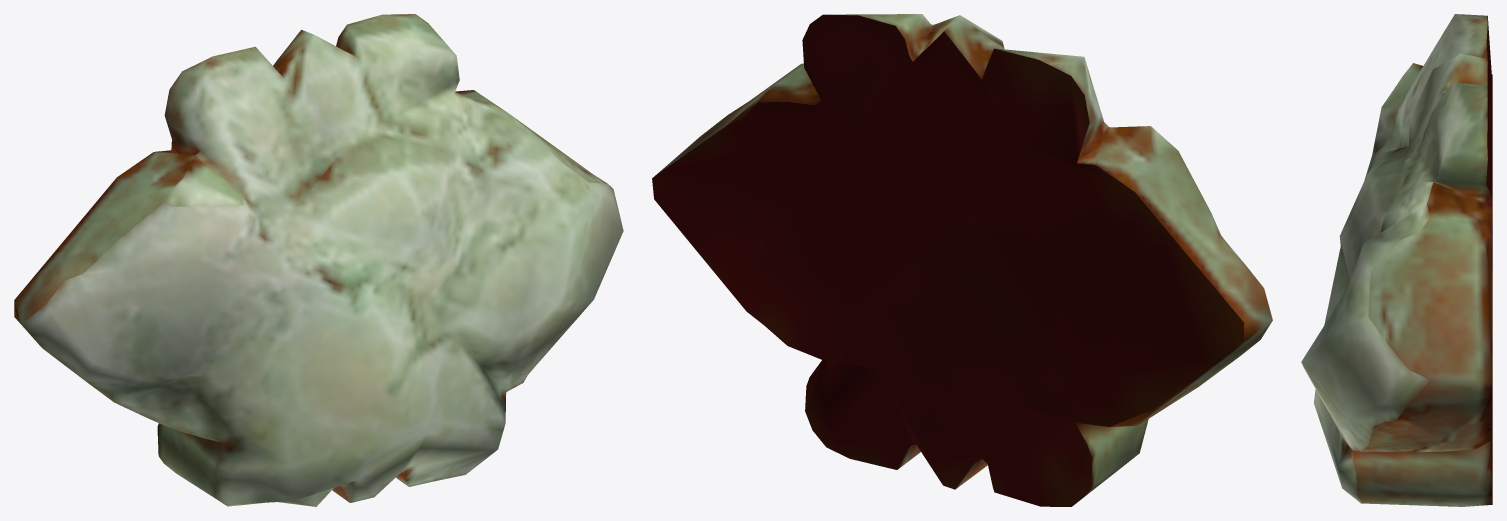
The model's file is Ruins_Collumn_Dmg_B.fbx.
3 views of the same model, side by side, from view 1: azimuth 30°, elevation 25°; view 2: azimuth 150°, elevation 25°; view 3: azimuth 270°, elevation 25° (orthographic). The views are drawn at different scales.
Parts seen in each view (by area): view 1: Ruins_Collumn_Dmg_B; view 2: Ruins_Collumn_Dmg_B; view 3: Ruins_Collumn_Dmg_B.
Boxes of the visible parts, box(x1,y1,x2,y2) form: Ruins_Collumn_Dmg_B: box(14, 14, 623, 506); Ruins_Collumn_Dmg_B: box(652, 14, 1272, 506); Ruins_Collumn_Dmg_B: box(1301, 14, 1492, 506).
Size of the model in its own units: 423 by 307 by 130.
